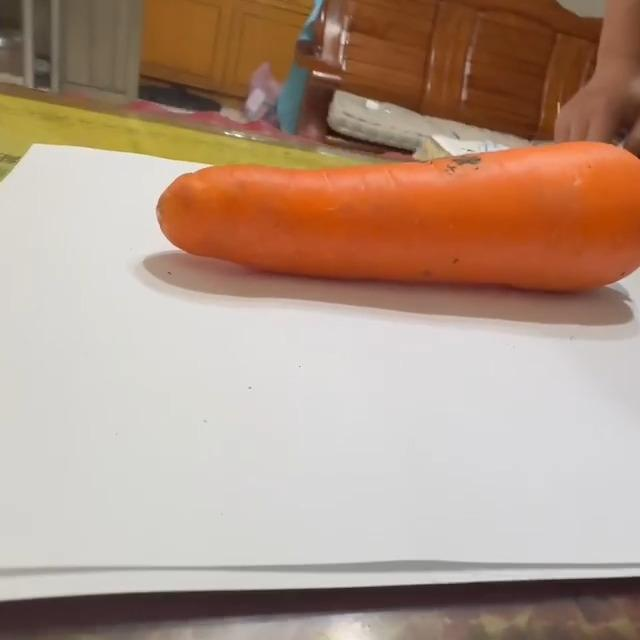carrot: (153, 140, 640, 293)
